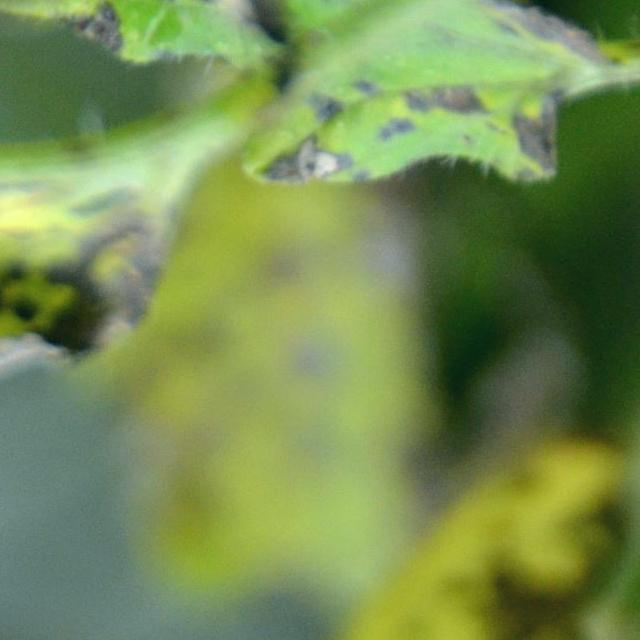Tomato Septoria leaf spot: (0, 473, 619, 640)
